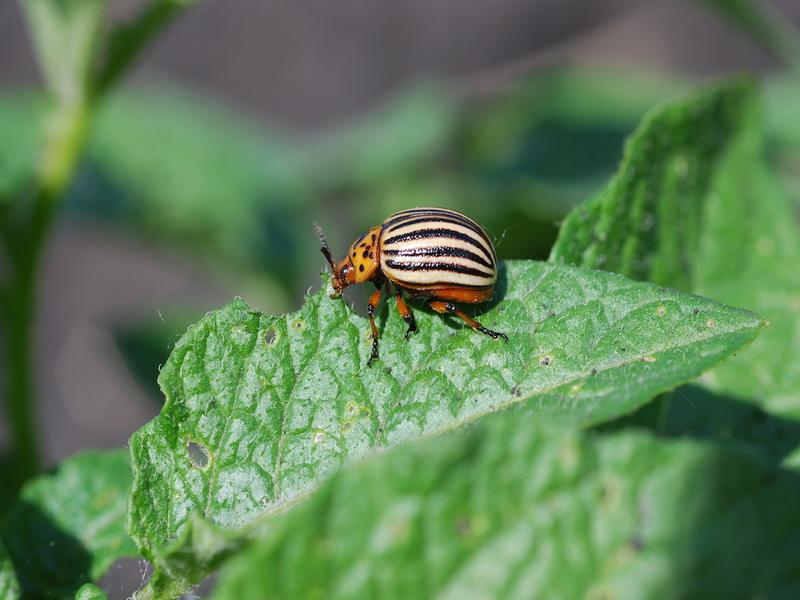hrosc: (324, 209, 514, 334)
